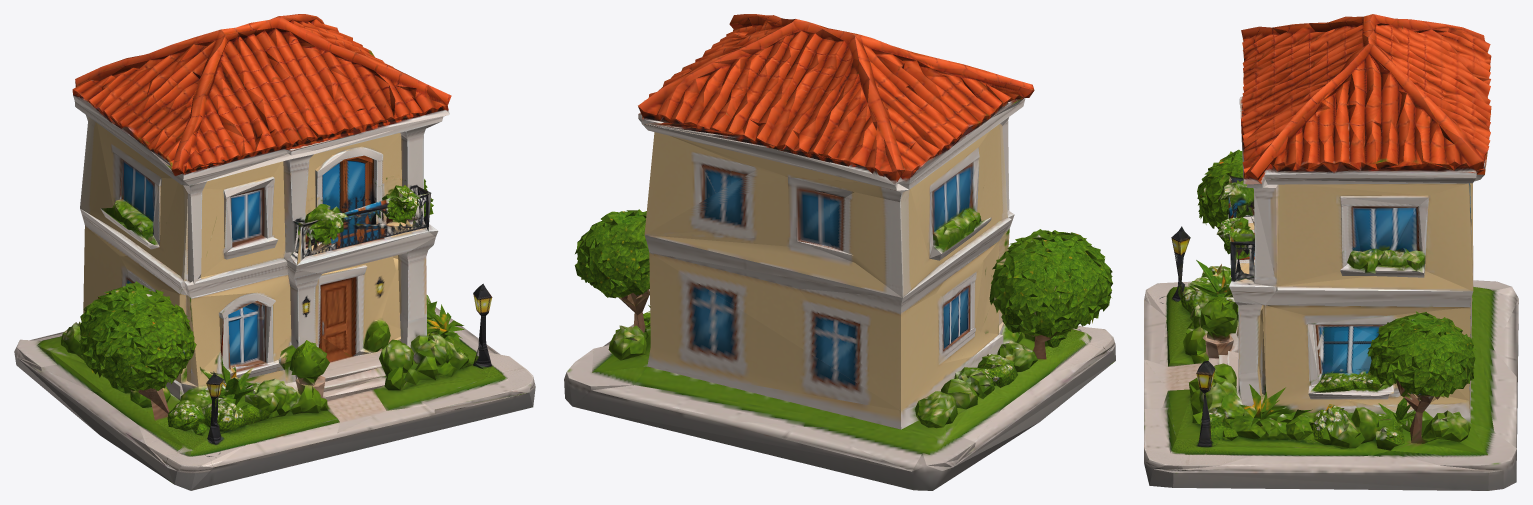
File: level-2-source.glb
The picture shows the model from 3 angles, left to right: view 1: azimuth 30°, elevation 25°; view 2: azimuth 150°, elevation 25°; view 3: azimuth 270°, elevation 25°; orthographic projection. The views are drawn at different scales.
Parts seen in each view (by area): view 1: Mesh_0; view 2: Mesh_0; view 3: Mesh_0.
Boxes of the visible parts, box(x1,y1,x2,y2) form: Mesh_0: box(14, 14, 535, 490); Mesh_0: box(564, 14, 1115, 490); Mesh_0: box(1144, 14, 1518, 490).
Size of the model in its own units: 1.9 by 1.53 by 1.42.
Materials: 1 (1 with a texture image).
